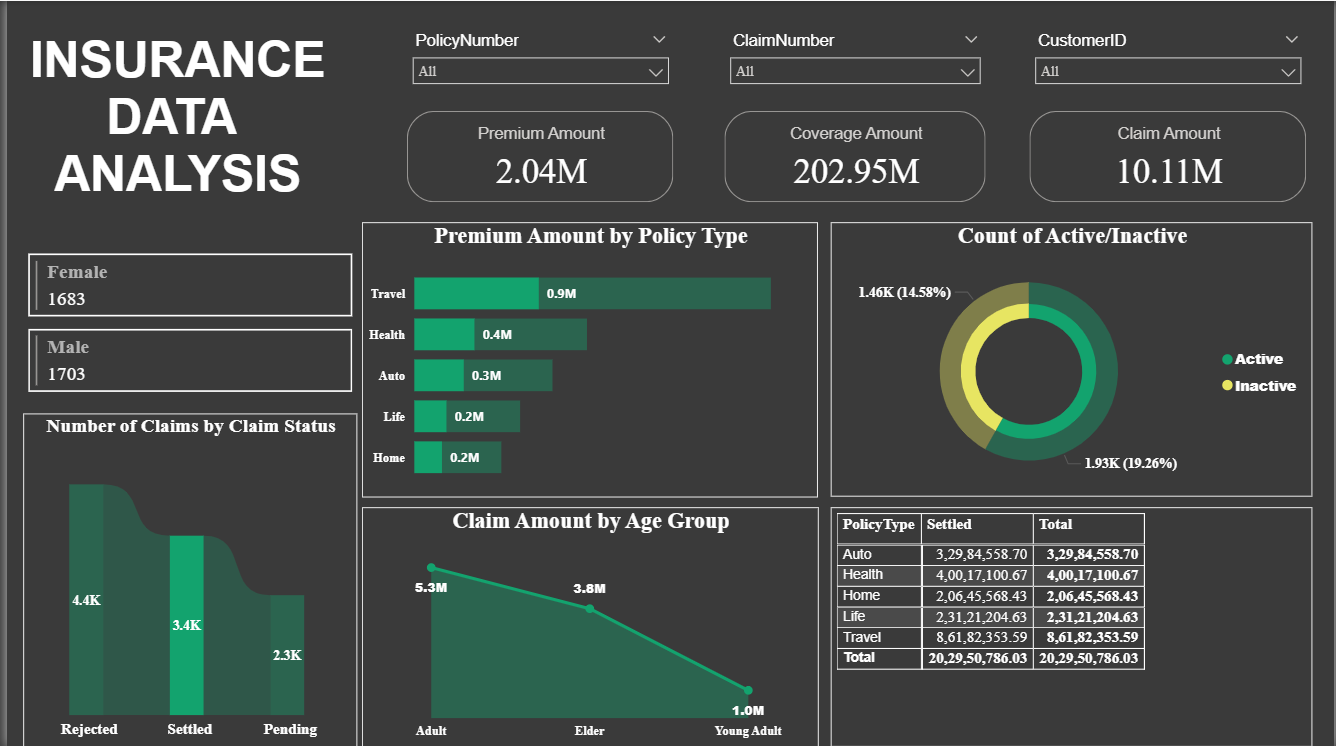

The dashboard page shown, as its layout file describes it:
{"tool":"powerbi","page":{"name":"Overview","canvas":[1280,720],"ordinal":0},"visuals":[{"type":"slicer","fields":{"Values":["InsuranceData.PolicyNumber"]},"box":[381.5,24.7,267.6,76.8],"z":0},{"type":"slicer","fields":{"Values":["InsuranceData.ClaimNumber"]},"box":[687.5,24.7,262.1,76.8],"z":1000},{"type":"slicer","fields":{"Values":["InsuranceData.CustomerID"]},"box":[982.5,24.7,277.2,76.8],"z":2000},{"type":"textbox","box":[15.7,24.1,298,214.7],"z":3000},{"type":"cardVisual","fields":{"Data":["Sum(InsuranceData.PremiumAmount)"]},"box":[381.5,101.5,267.6,98.8],"z":4000},{"type":"cardVisual","fields":{"Data":["Sum(InsuranceData.CoverageAmount)"]},"box":[687.5,101.5,262.1,98.8],"z":5000},{"type":"cardVisual","fields":{"Data":["Sum(InsuranceData.ClaimAmount)"]},"box":[982.5,101.5,277.2,98.8],"z":6000},{"type":"multiRowCard","fields":{"Values":["InsuranceData.Gender","CountNonNull(InsuranceData.Gender)"]},"box":[15.1,238.8,322.5,159.2],"z":7000},{"type":"ribbonChart","title":"Number of Claims by Claim Status ","fields":{"Category":["InsuranceData.ClaimStatus"],"Y":["CountNonNull(InsuranceData.ClaimStatus)"]},"box":[15.1,397.9,322.5,322.5],"z":8000},{"type":"barChart","title":"Premium Amount by Policy Type","fields":{"Category":["InsuranceData.PolicyType"],"Y":["Sum(InsuranceData.PremiumAmount)"]},"box":[342.6,213.5,440.4,265.4],"z":9000},{"type":"lineChart","title":"Claim Amount by Age Group","fields":{"Category":["InsuranceData.Age Group"],"Y":["Sum(InsuranceData.ClaimAmount)"]},"box":[343.1,488.5,440.5,231.9],"z":10000},{"type":"donutChart","title":"Count of Active/Inactive ","fields":{"Category":["InsuranceData.Active/Inactive"],"Y":["CountNonNull(InsuranceData.Active/Inactive)"]},"box":[794.5,214.1,465.2,264.8],"z":11000},{"type":"pivotTable","fields":{"Values":["Sum(InsuranceData.CoverageAmount)"],"Rows":["InsuranceData.PolicyType"],"Columns":["InsuranceData.ClaimStatus"]},"box":[795,489,465,231],"z":12000}]}

Visuals, with their boxes in screenshot pixels (x1, y1, x2, y2), scaled from the page's 1280x720 canvas onto the 1336x746 screenshot:
slicer - InsuranceData.PolicyNumber: bbox=(398, 26, 677, 105)
slicer - InsuranceData.ClaimNumber: bbox=(718, 26, 991, 105)
slicer - InsuranceData.CustomerID: bbox=(1025, 26, 1315, 105)
textbox: bbox=(16, 25, 327, 247)
cardVisual - Sum(InsuranceData.PremiumAmount): bbox=(398, 105, 677, 208)
cardVisual - Sum(InsuranceData.CoverageAmount): bbox=(718, 105, 991, 208)
cardVisual - Sum(InsuranceData.ClaimAmount): bbox=(1025, 105, 1315, 208)
multiRowCard - InsuranceData.Gender x CountNonNull(InsuranceData.Gender): bbox=(16, 247, 352, 412)
"Number of Claims by Claim Status " ribbonChart: bbox=(16, 412, 352, 745)
"Premium Amount by Policy Type" barChart: bbox=(358, 221, 817, 496)
"Claim Amount by Age Group" lineChart: bbox=(358, 506, 818, 745)
"Count of Active/Inactive " donutChart: bbox=(829, 222, 1315, 496)
pivotTable - Sum(InsuranceData.CoverageAmount) x InsuranceData.PolicyType: bbox=(830, 507, 1315, 745)
